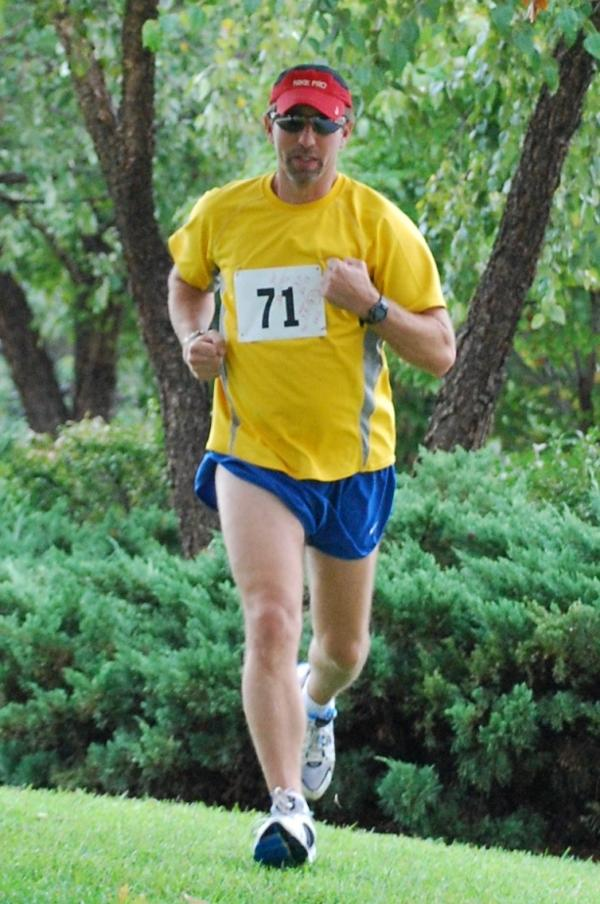person: (166, 65, 456, 869)
